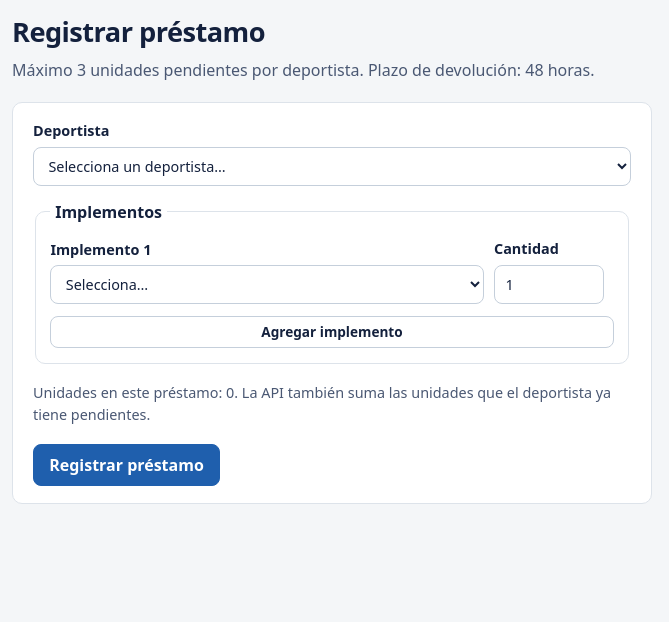
Test: loan registration (HU-06) › does not send the loan if it exceeds the allowed units
Select "Laura Gómez — 1075" in the dropdown labelled "Deportista" at (332, 166), box [33, 147, 631, 186]
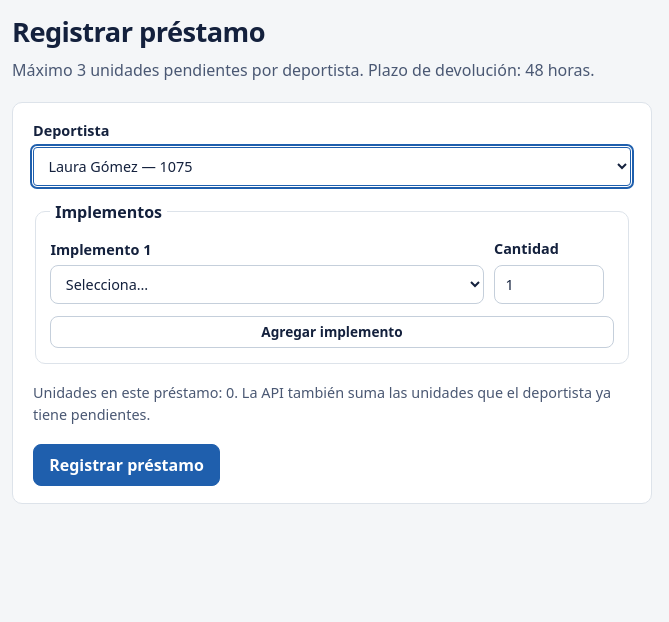
Select "BAL-001 (Balones) — 4 disponible(s)" in the dropdown labelled "Implemento 1" at (267, 285), box [50, 265, 484, 304]
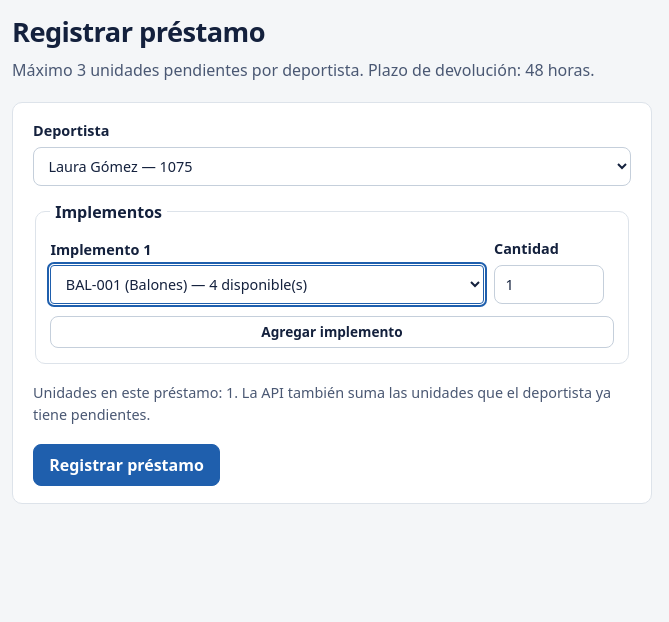
Replace the text in the number field labelled "Cantidad" with "4" at (549, 285), box [494, 265, 604, 304]
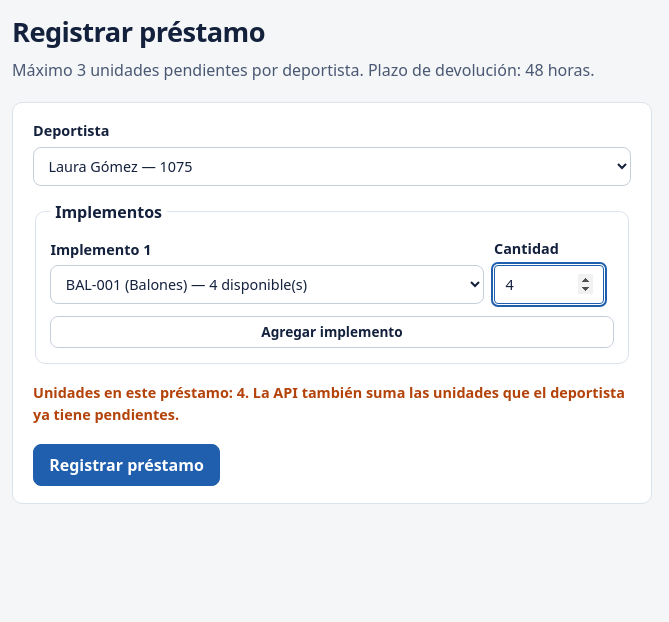
Click the button "Registrar préstamo" at (126, 465), box [33, 444, 220, 486]
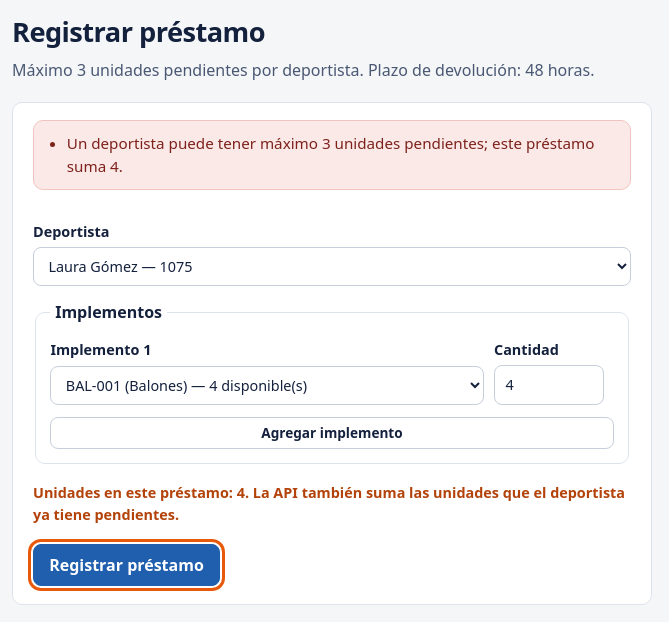
Check: the message shows "máximo 3 unidades", box [67, 133, 594, 176]
